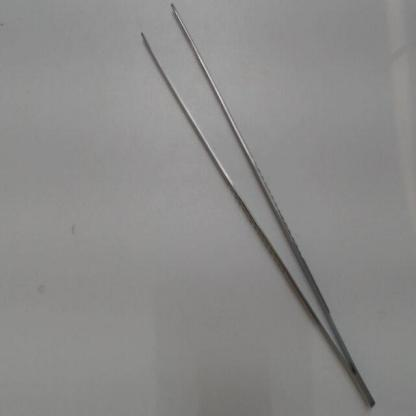DeBakey Dissector: (132, 3, 385, 414)
